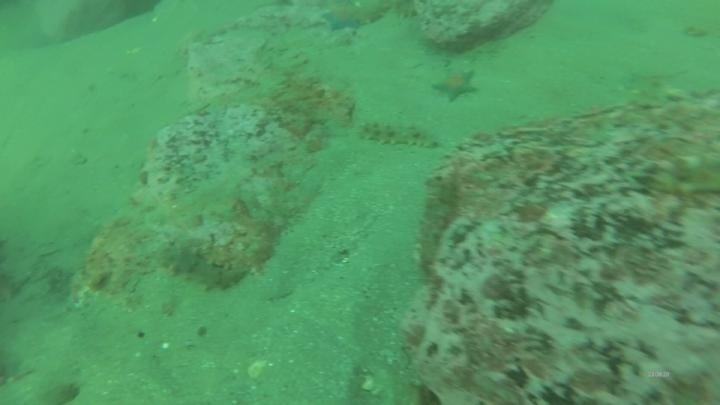holothurian: (156, 240, 252, 295), (355, 115, 443, 152), (647, 153, 720, 196)
starfish: (429, 65, 481, 105), (319, 4, 368, 35)
